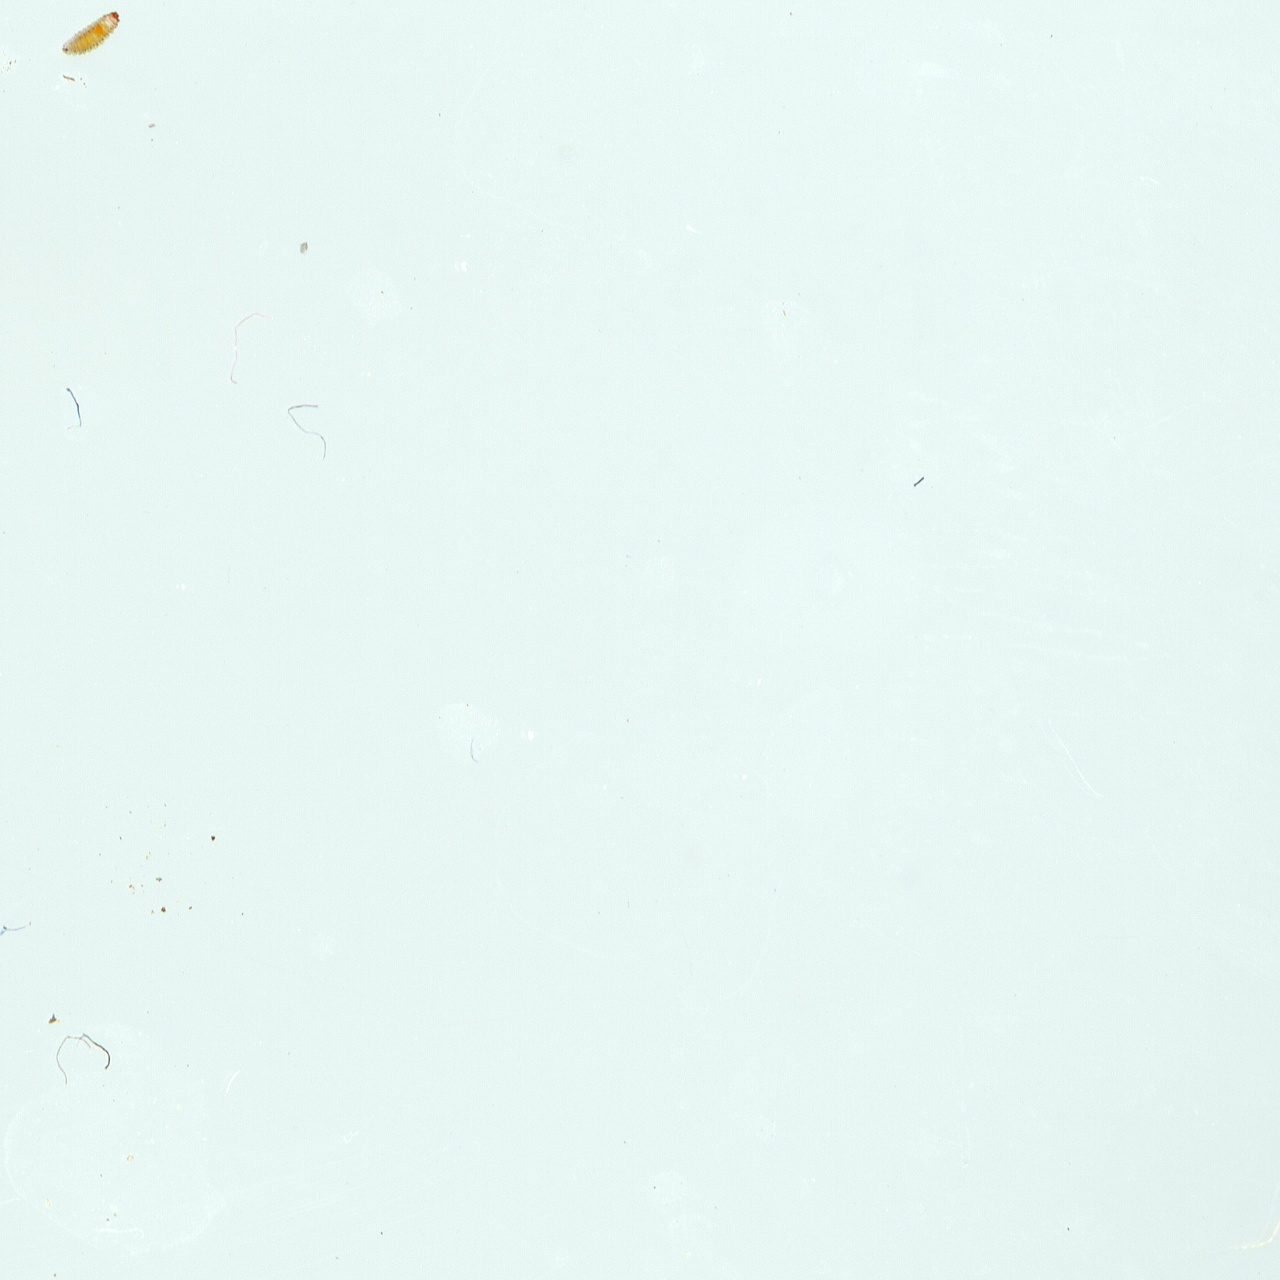arthropod: (62, 11, 121, 56)
